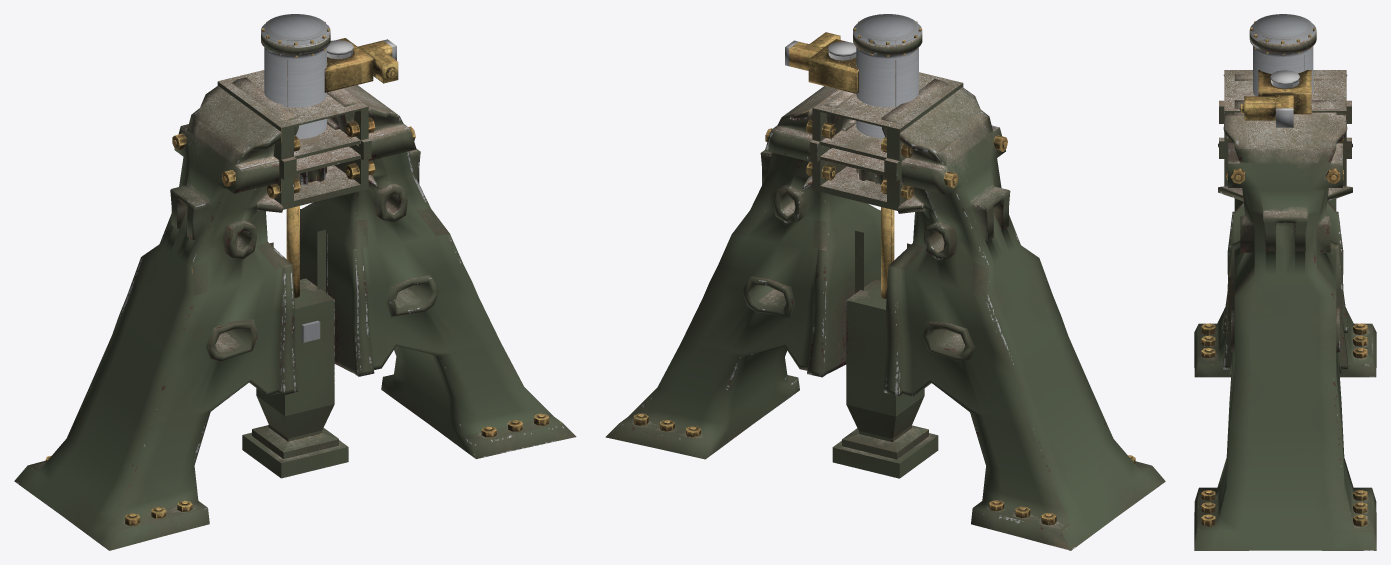
3 views of the same model, side by side, from view 1: azimuth 30°, elevation 25°; view 2: azimuth 150°, elevation 25°; view 3: azimuth 270°, elevation 25° (orthographic). The views are drawn at different scales.
Parts seen in each view (by area): view 1: Cube; view 2: Cube; view 3: Cube.
Boxes of the visible parts, <box> form: Cube: <box>14,14,576,550</box>; Cube: <box>605,14,1165,550</box>; Cube: <box>1194,14,1376,550</box>.
Size of the model in its own units: 838 by 741 by 296.
Materials: 1 (1 with a texture image).
